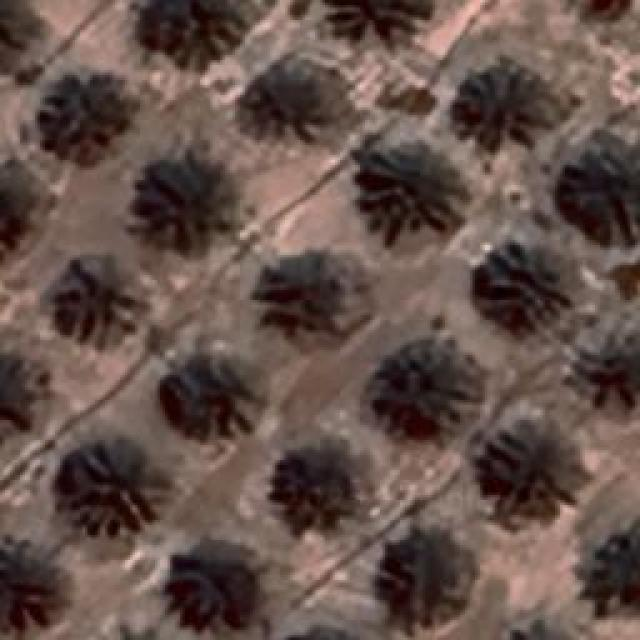PalmTree: (352, 135, 470, 255), (248, 255, 376, 345), (52, 245, 152, 345), (62, 440, 168, 532), (474, 238, 578, 330), (144, 148, 228, 252), (374, 352, 476, 432), (171, 546, 264, 632), (165, 352, 253, 436), (454, 62, 546, 140), (570, 125, 640, 225), (278, 442, 360, 518), (494, 424, 566, 508), (398, 541, 470, 621), (0, 550, 70, 632), (256, 60, 336, 130), (577, 328, 640, 413), (46, 80, 116, 152), (328, 0, 430, 45), (0, 355, 52, 434), (157, 0, 230, 55), (0, 0, 45, 79), (0, 163, 45, 242), (592, 538, 640, 610), (280, 619, 368, 640), (498, 619, 585, 640)
